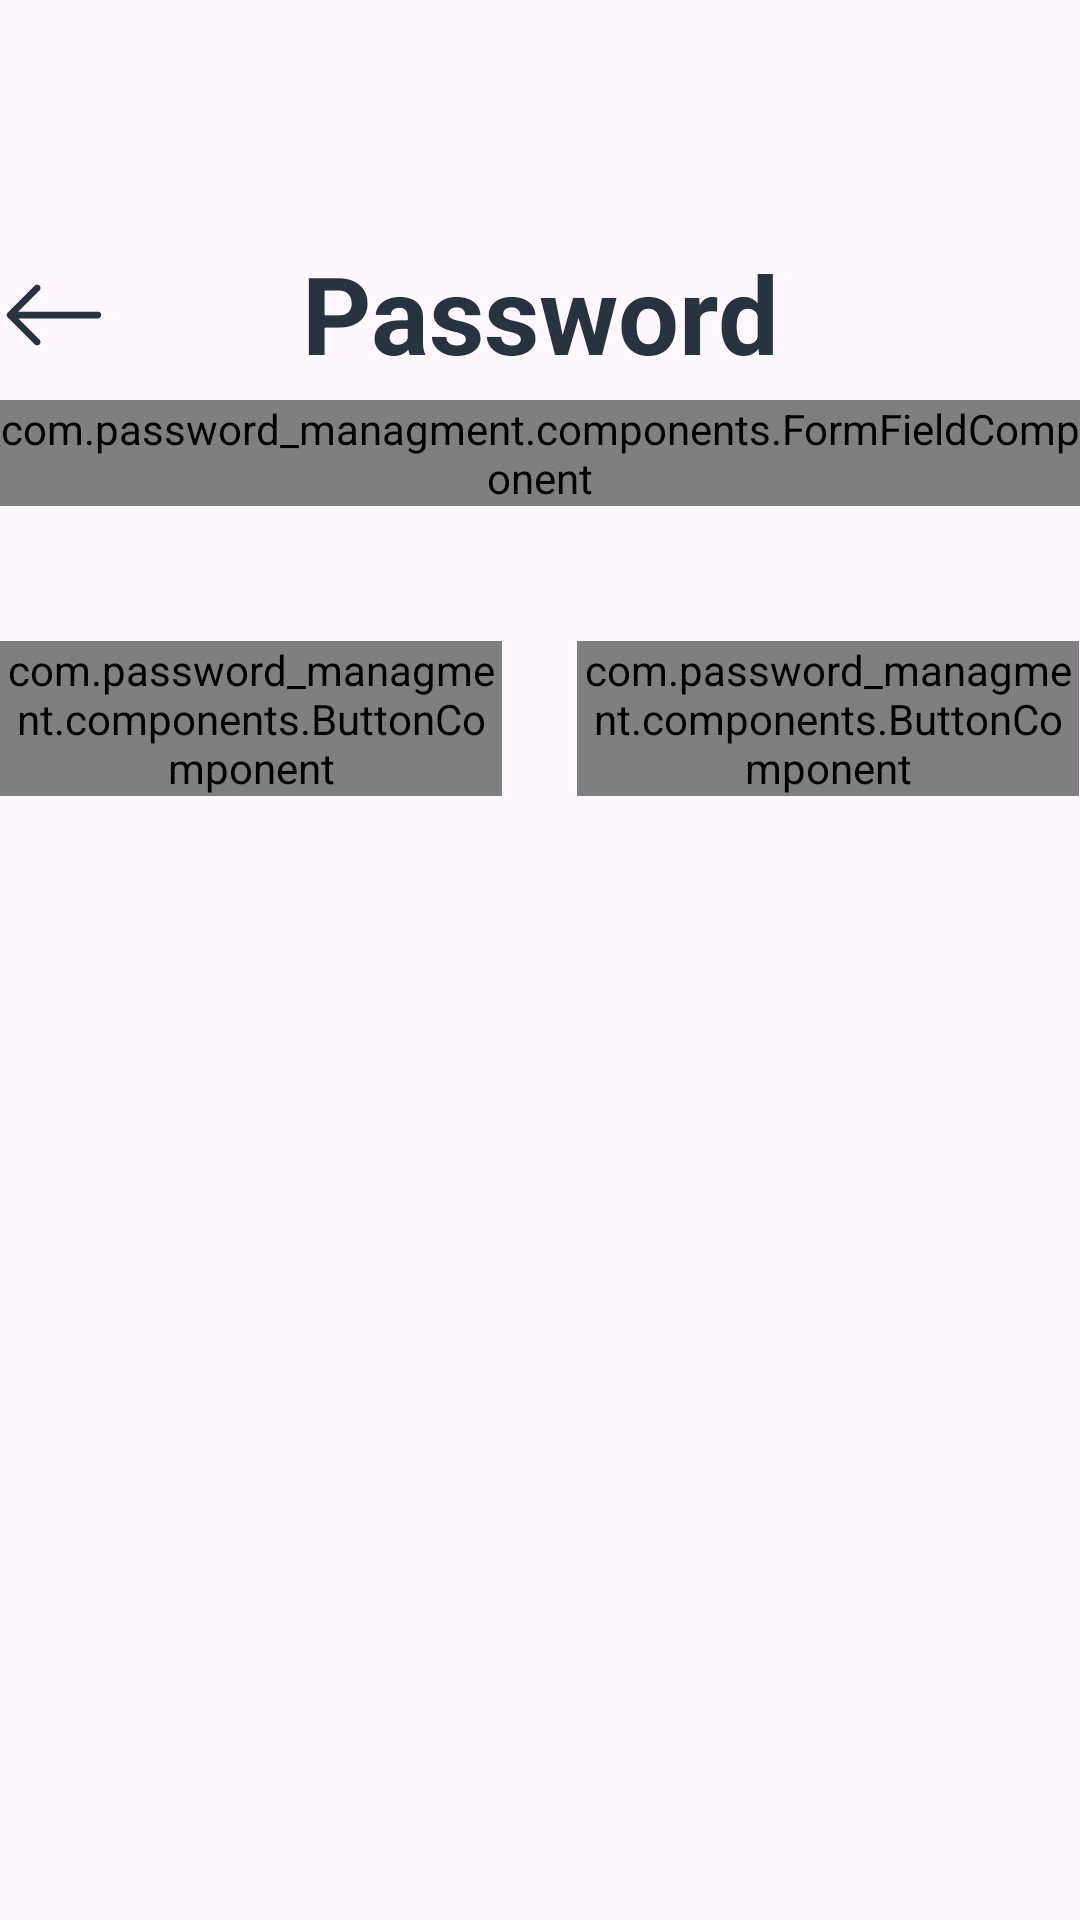

Icons on this 1080 x 1920 Android screen, each with its box as (x1, y1, x2, y2):
arrowleft: (6, 284, 102, 346)
